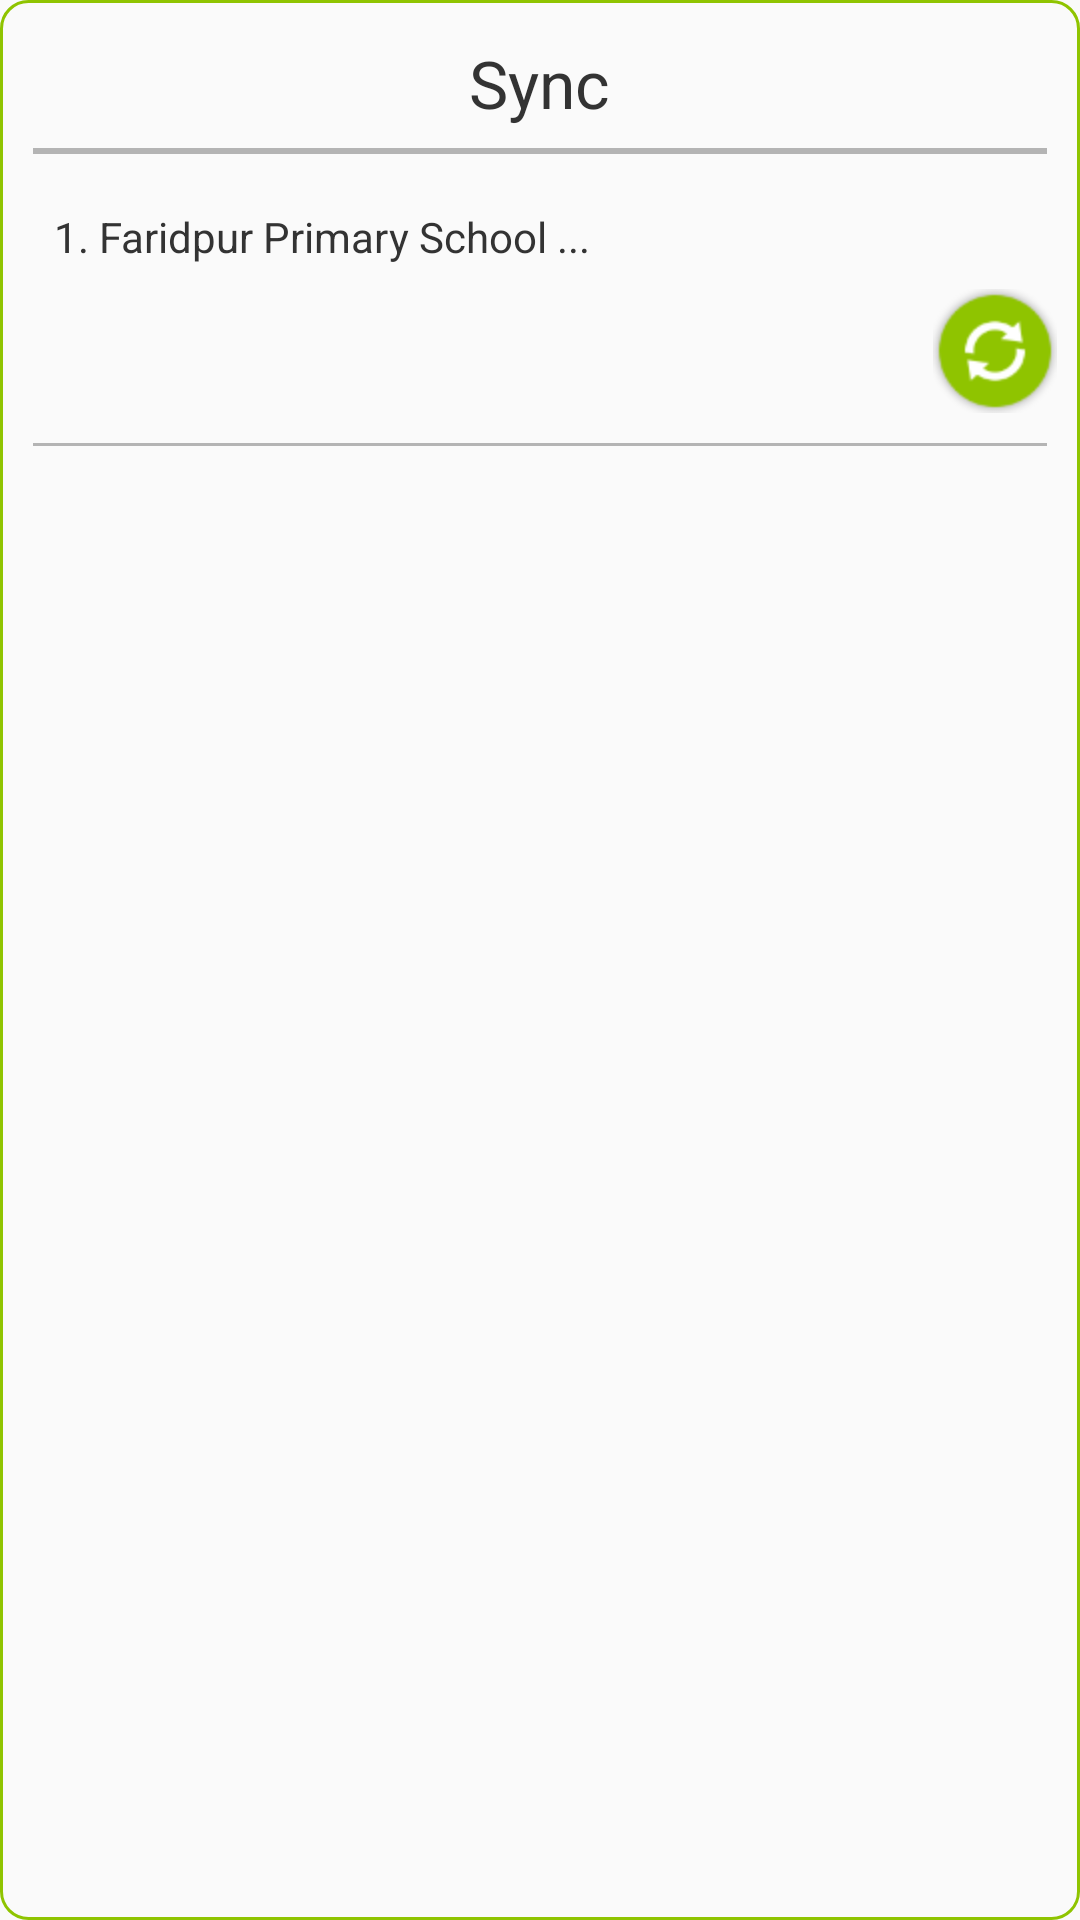

Point at icon controls on the screen. Image size 1080px×1920px, points as [x,y].
sync: [995,351]
